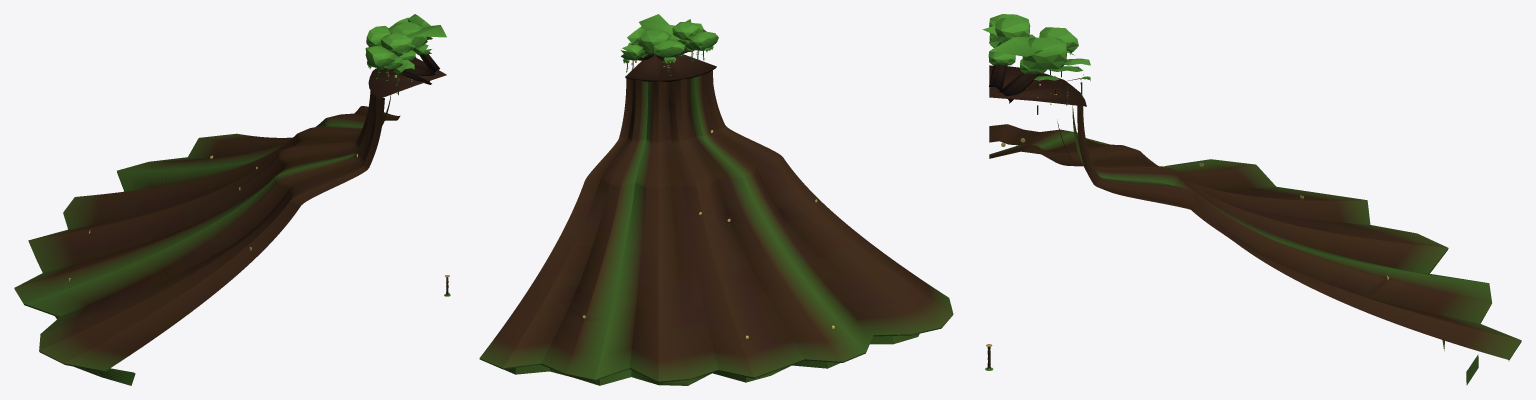
File: swamp-s1-STjBK8ci.glb
The picture shows the model from 3 angles, left to right: view 1: azimuth 30°, elevation 25°; view 2: azimuth 150°, elevation 25°; view 3: azimuth 270°, elevation 25°; orthographic projection. The views are drawn at different scales.
Parts seen in each view (by area): view 1: sc_landmark_1; view 2: sc_landmark_1; view 3: sc_landmark_1.
Part boxes in pixels (box(x1,y1,x2,y2)): sc_landmark_1: box(14, 14, 446, 385); sc_landmark_1: box(479, 14, 953, 385); sc_landmark_1: box(982, 14, 1521, 385).
Bounding box in the file's own units: 416 × 284 × 409.
